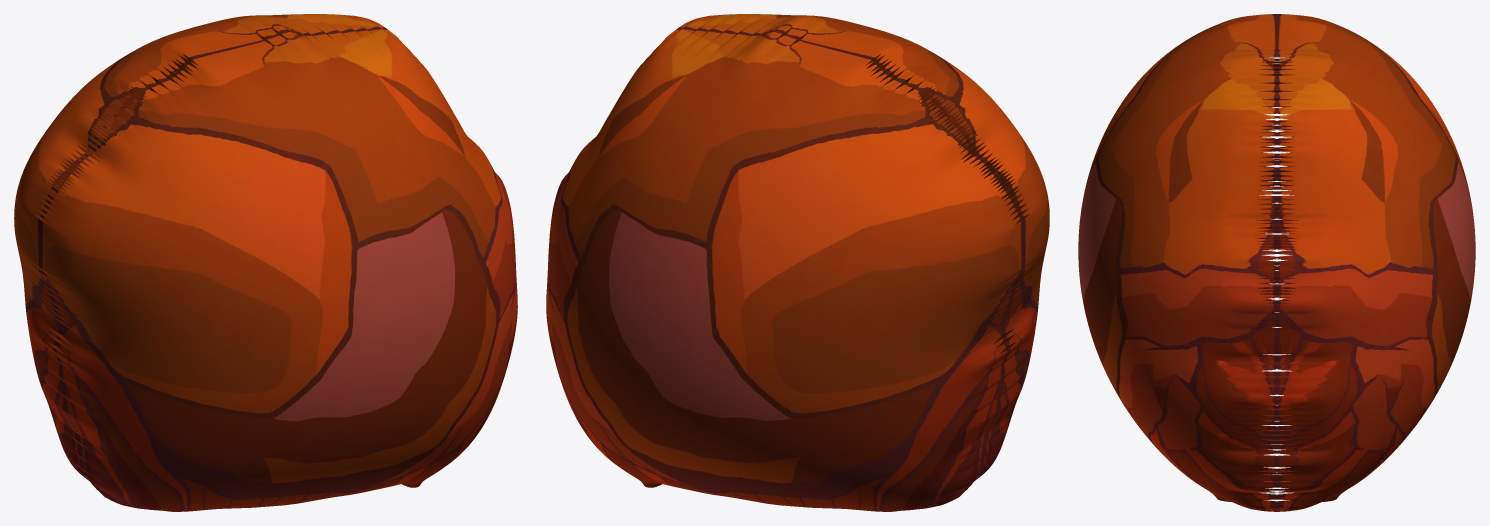
The model's file is faceted_cliff.glb.
The picture shows the model from 3 angles, left to right: view 1: azimuth 30°, elevation 25°; view 2: azimuth 150°, elevation 25°; view 3: azimuth 270°, elevation 25°; orthographic projection. The views are drawn at different scales.
Parts seen in each view (by area): view 1: faceted_cliff; view 2: faceted_cliff; view 3: faceted_cliff.
Part boxes in pixels (x1=…): faceted_cliff: x1=14, y1=14, x2=517, y2=511; faceted_cliff: x1=546, y1=14, x2=1049, y2=511; faceted_cliff: x1=1078, y1=14, x2=1475, y2=511.
Bounding box in the file's own units: 0.9889 × 0.9535 × 0.8568.
1 material, 1 textured.
